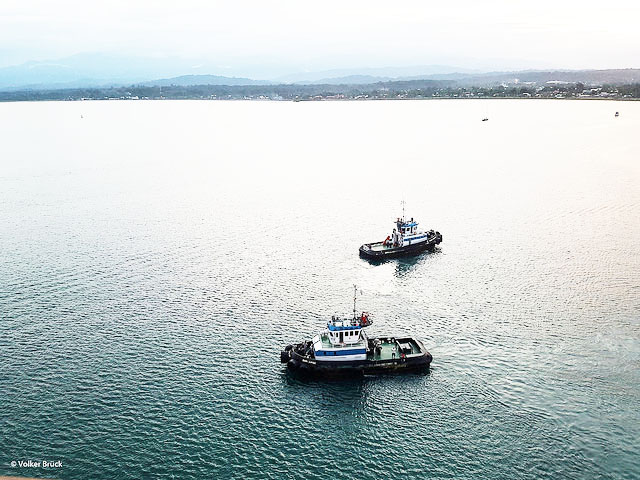tug_boat: (279, 285, 434, 382), (361, 201, 444, 265)
